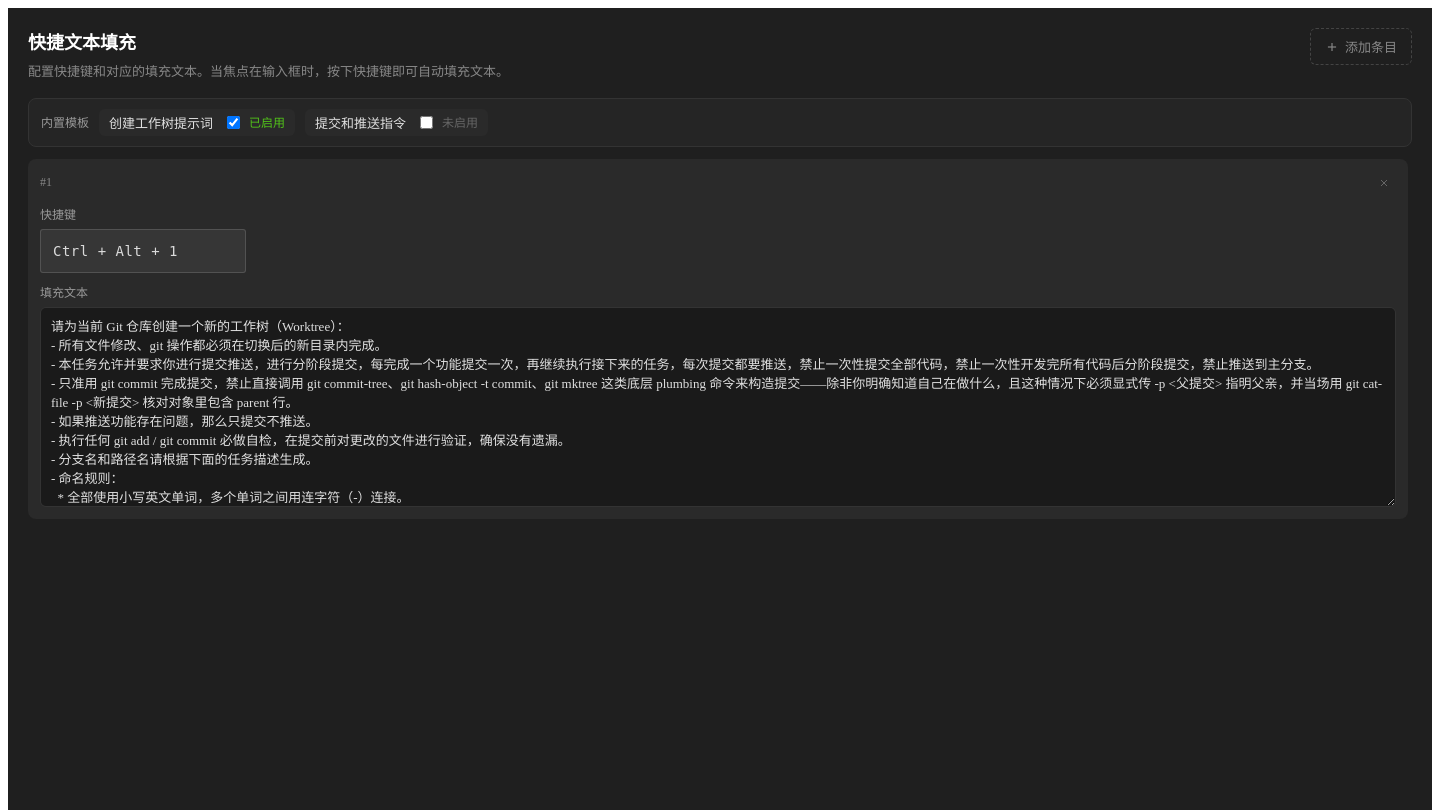
Test: QuickFillView › 禁用模板后移除对应条目并自动保存
Expected: the heading "快捷文本填充" is shown, [28, 33, 136, 53]
Click the checkbox labelled "已启用". click: x=234, y=122
box: [227, 116, 240, 128]
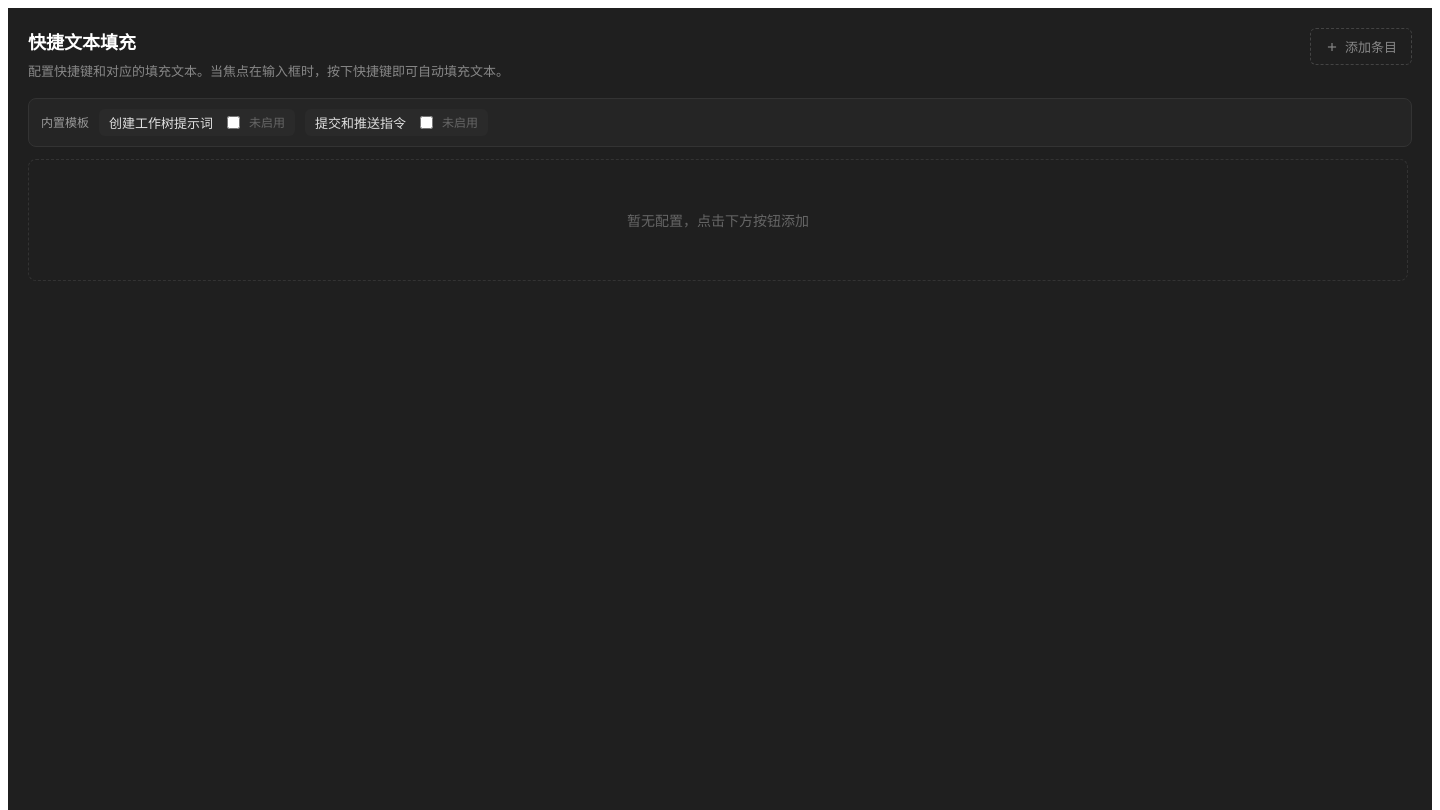
Expected: the text "暂无配置，点击下方按钮添加" is shown, [28, 158, 1408, 280]
